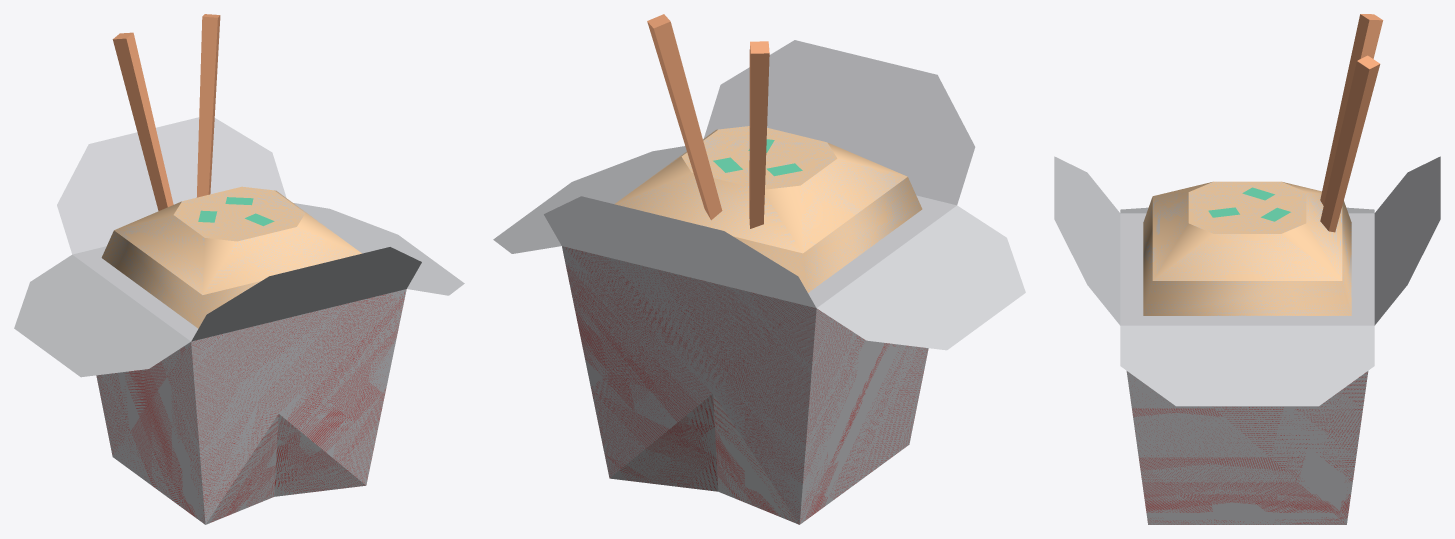
File: chinese.obj
The picture shows the model from 3 angles, left to right: view 1: azimuth 30°, elevation 25°; view 2: azimuth 150°, elevation 25°; view 3: azimuth 270°, elevation 25°; orthographic projection. The views are drawn at different scales.
Visible parts, largest first — view 1: chinese, chopstick; view 2: chinese, chopstick; view 3: chinese, chopstick.
Boxes of the visible parts, box(x1,y1,x2,y2) form: chinese: box(14, 117, 464, 524); chopstick: box(112, 14, 220, 210); chinese: box(493, 40, 1025, 524); chopstick: box(647, 14, 769, 228); chinese: box(1054, 156, 1440, 524); chopstick: box(1320, 14, 1383, 232).
Size of the model in its own units: 0.5575 by 0.5671 by 0.4538.
